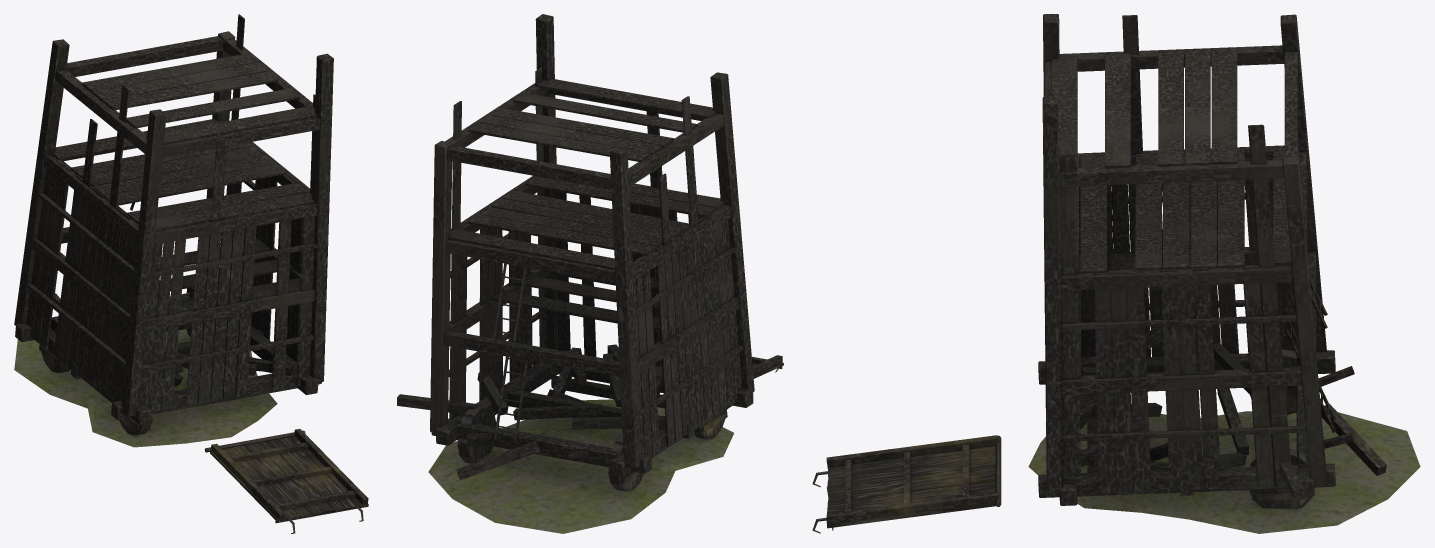
The model's file is siege_tower_burnt.glb.
3 views of the same model, side by side, from view 1: azimuth 30°, elevation 25°; view 2: azimuth 150°, elevation 25°; view 3: azimuth 270°, elevation 25° (orthographic). The views are drawn at different scales.
Visible parts, largest first — view 1: body_LOD0; view 2: body_LOD0; view 3: body_LOD0.
Part boxes in pixels (box(x1,y1,x2,y2)): body_LOD0: box(14, 14, 368, 533); body_LOD0: box(397, 14, 783, 533); body_LOD0: box(812, 14, 1420, 533).
Size of what is drawn, in the model's own units: 6.41 by 9.6 by 11.27.
Materials: 1 (1 with a texture image).
